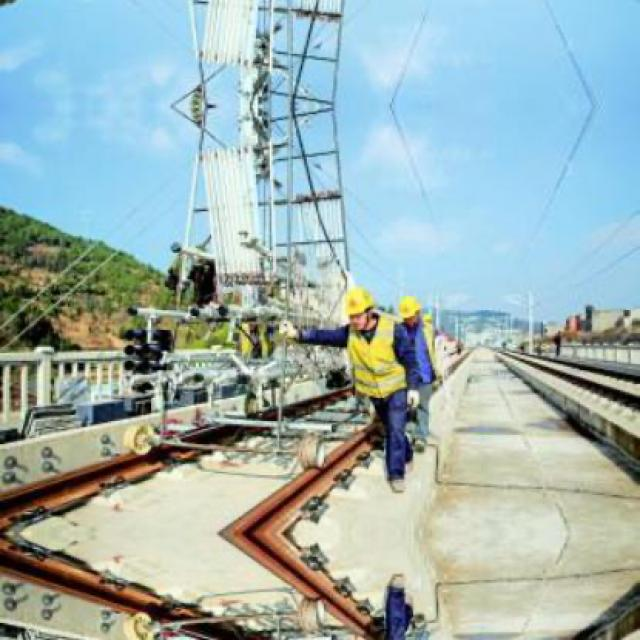Reflective-Jacket: (338, 317, 415, 408)
Safety-Helmet: (336, 281, 381, 324), (393, 290, 427, 325)
